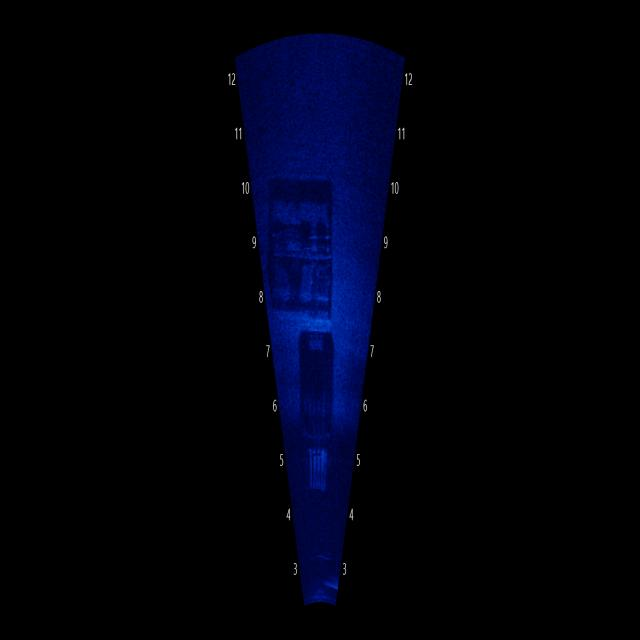square: (263, 145, 344, 322), (290, 331, 342, 492)
